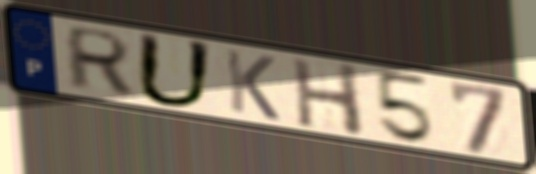5: (370, 69, 438, 146)
7: (445, 77, 510, 158)
H: (288, 56, 368, 140)
K: (221, 46, 283, 124)
R: (65, 24, 135, 97)
U: (133, 29, 218, 110)
